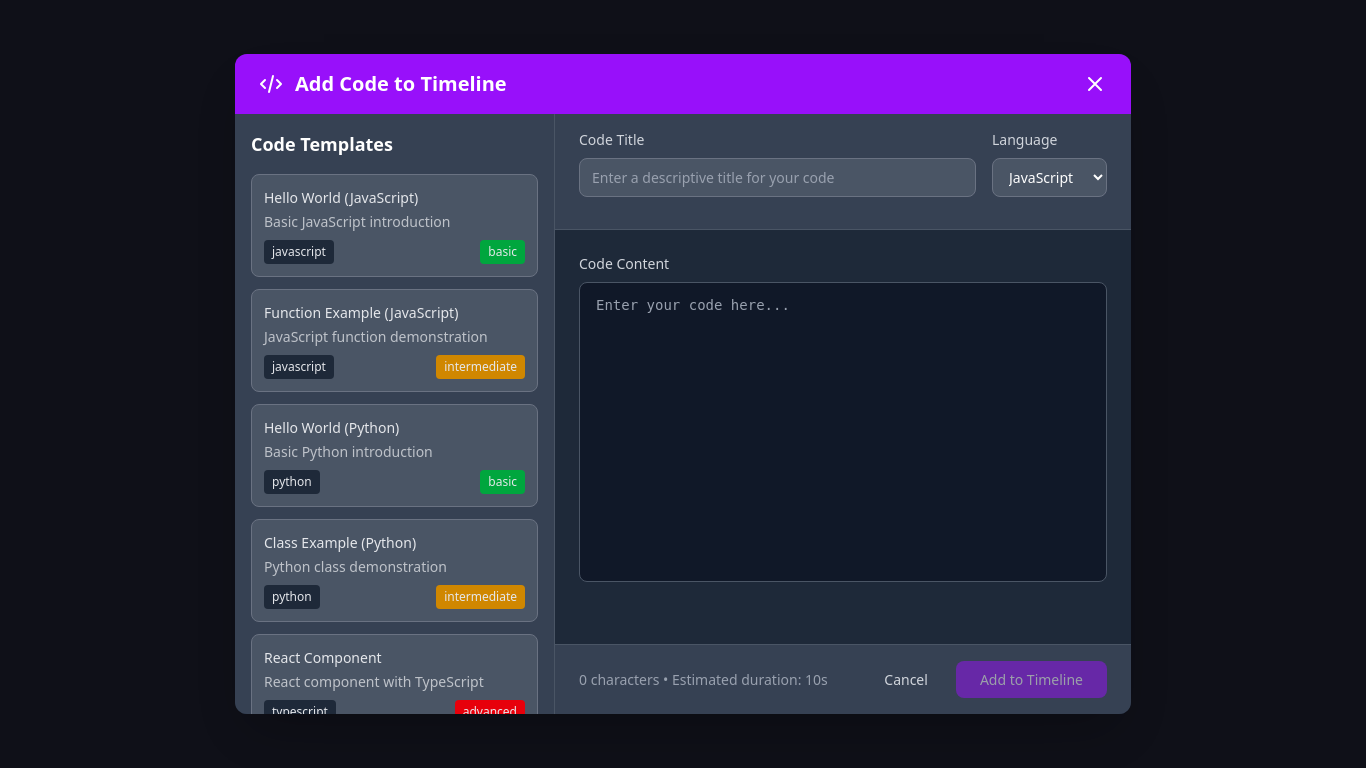
Scenario: Content Addition Workflows › CodeEditorWorkflow › loads template when clicked
The width and height of the screenshot is (1366, 768).
Click the text "Hello World (JavaScript)": (341, 198) top-left (264, 188), bottom-right (418, 207)
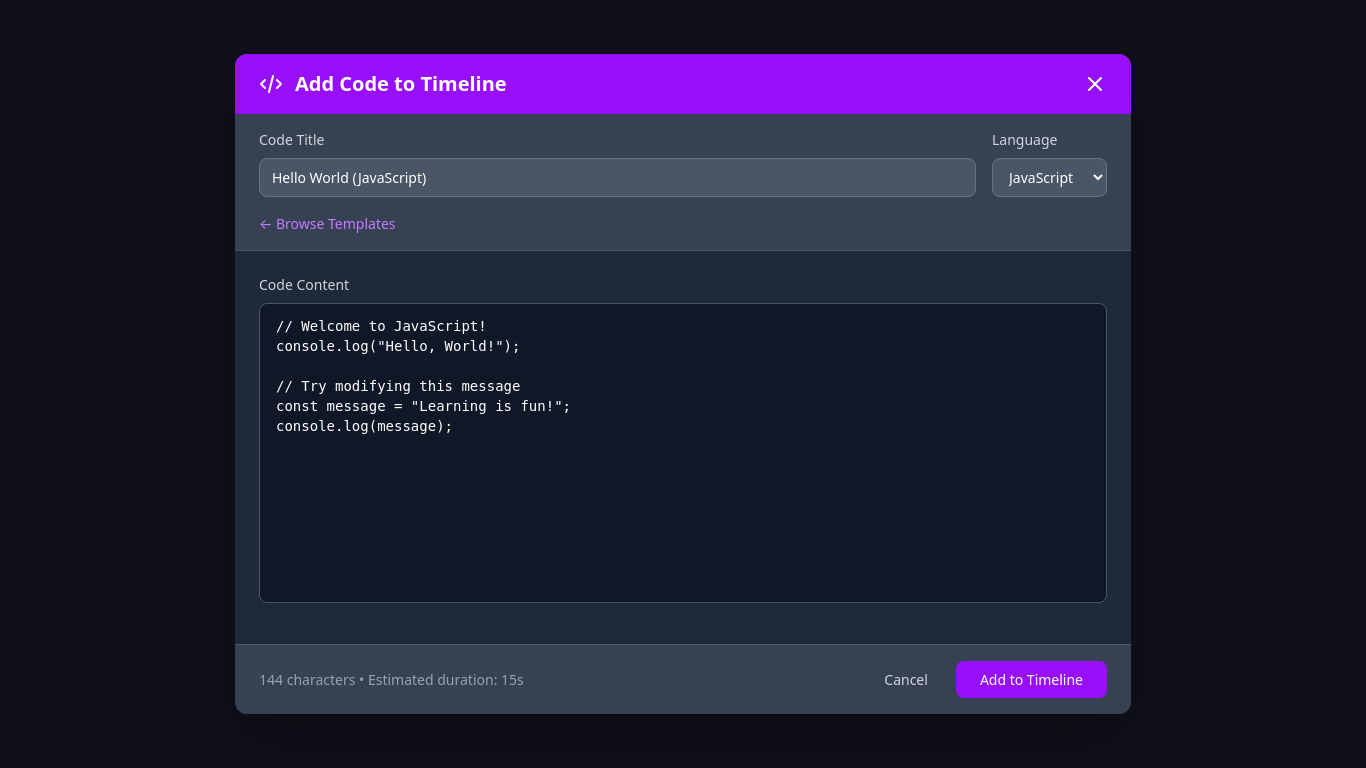
Check: the field showing "Hello World (JavaScript)" is shown, box top-left (259, 158), bottom-right (976, 197)
